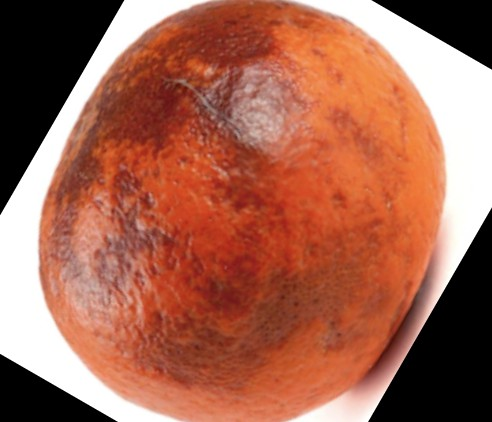rotten_orange: (40, 1, 446, 422)
